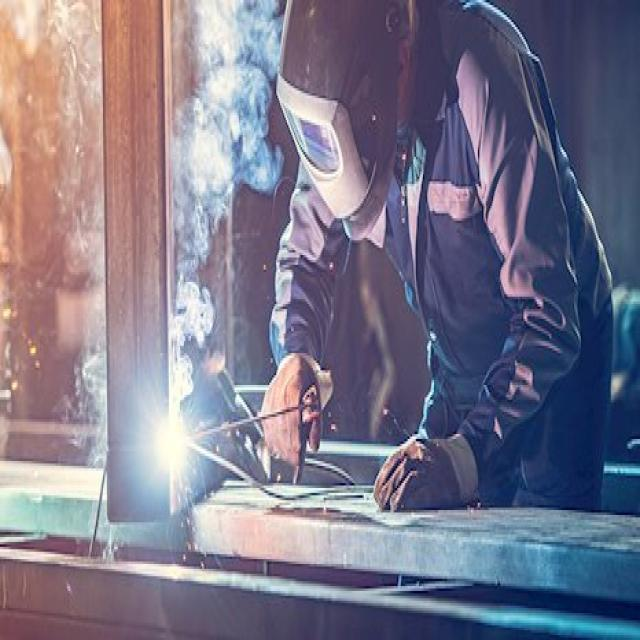with_helmet: (277, 0, 614, 506)
